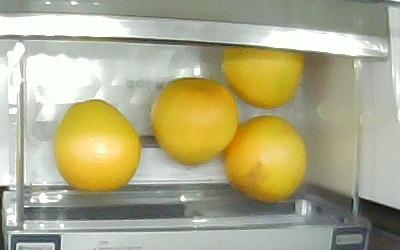grapefruit: (55, 99, 142, 191), (150, 78, 239, 166), (225, 116, 307, 204), (222, 46, 304, 109)
